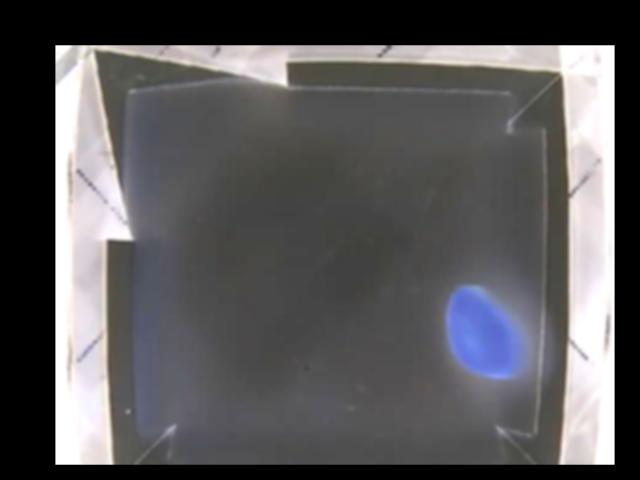Potato: (445, 285, 527, 379)
